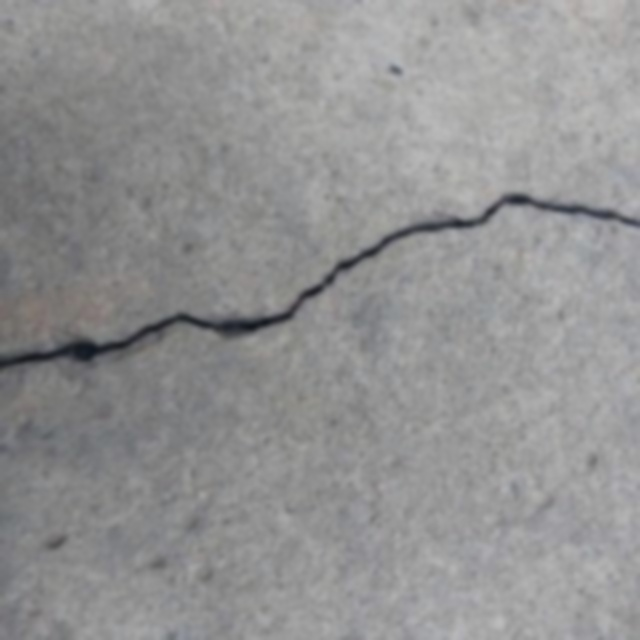SurfaceCrack: (0, 166, 638, 396)
